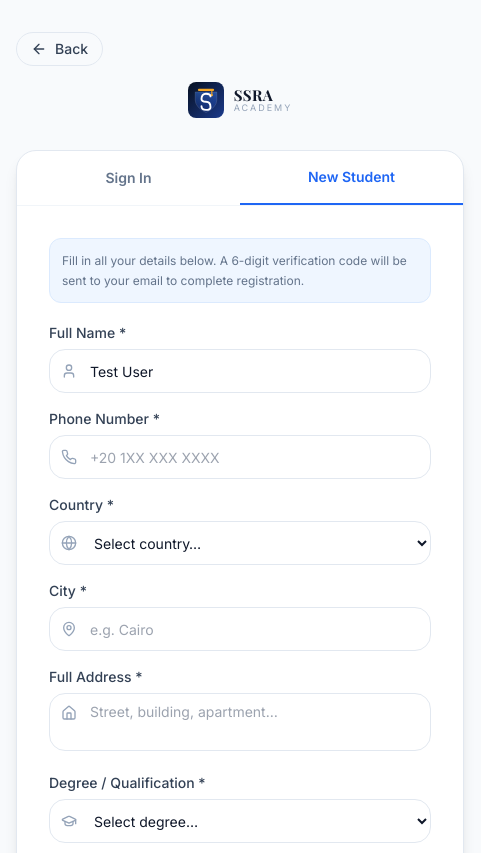
StudentLogin — OTP verify hardening › signup: stores profile + reads back successfully → no sign-out
Earlier steps of the test are not shown.
Later steps or results of the test are not shown.
In the field with placeholder "+20 1XX XXX XXXX": {"x": 240, "y": 457} 49,435 -> 431,479, type "+201234567890"
Select "Egypt" in the dropdown labelled "Country *": {"x": 240, "y": 543} 49,521 -> 431,565
In the field with placeholder "e.g. Cairo": {"x": 240, "y": 629} 49,607 -> 431,651, type "Cairo"
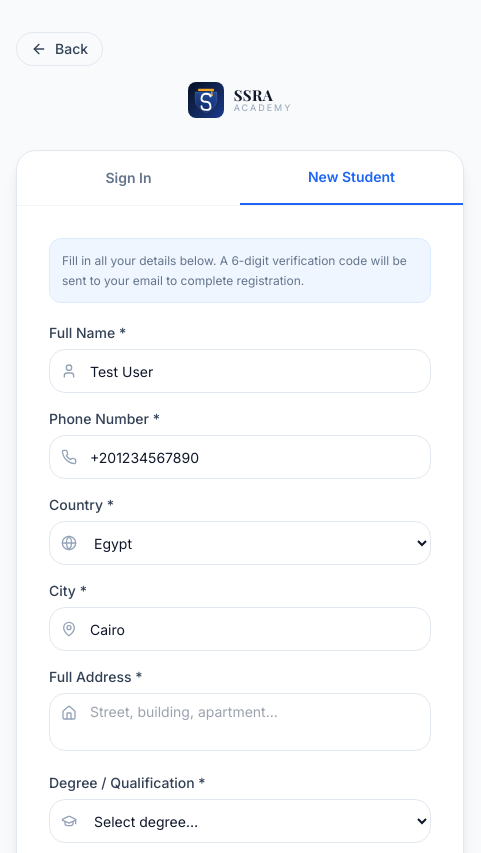
In the text box with placeholder "Street, building, apartment…": {"x": 240, "y": 722} 49,693 -> 431,751, type "123 Test Street"
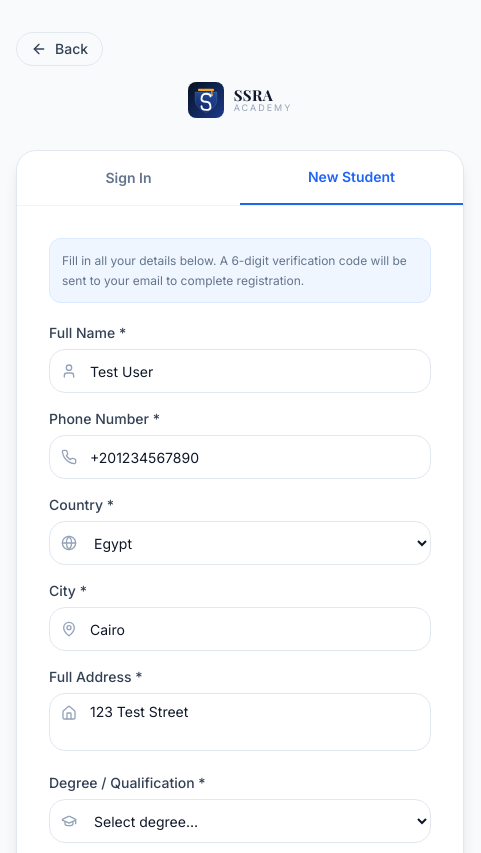
Select "Bachelor of Physical Therapy" in the dropdown labelled "Degree / Qualification *": {"x": 240, "y": 821} 49,799 -> 431,843
(page scrolled)
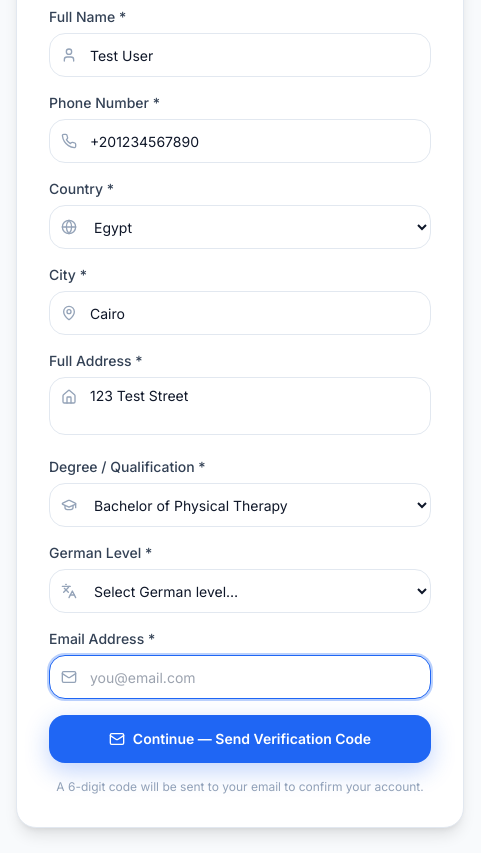
Select "A1" in the dropdown labelled "German Level *": {"x": 240, "y": 591} 49,569 -> 431,613
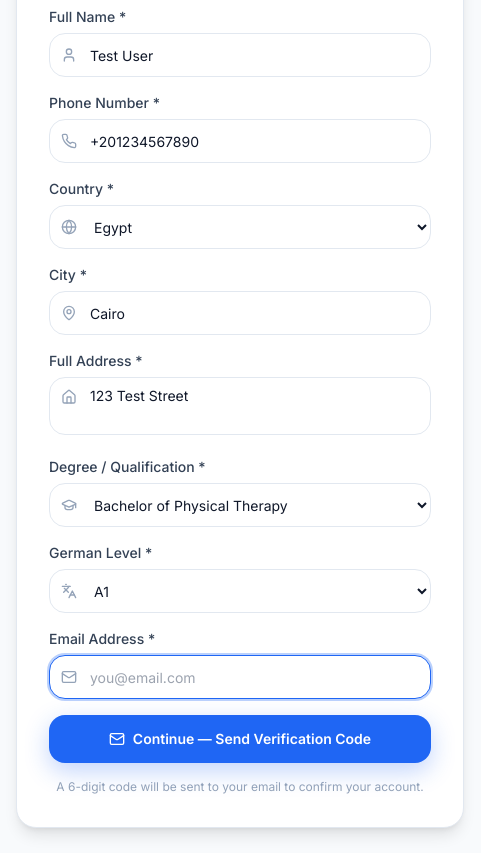
In the field with placeholder "you@email.com": {"x": 240, "y": 677} 49,655 -> 431,699, type "u@test.com"
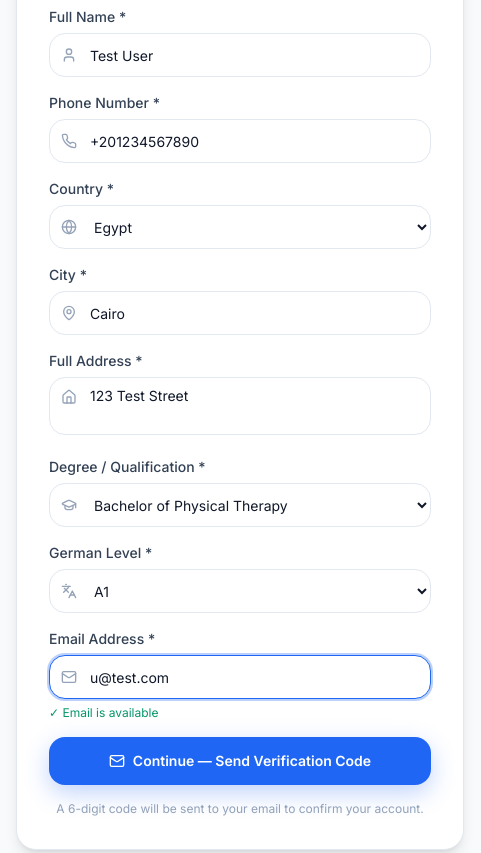
Expected: the button "Continue — Send Verification Code" is enabled
Click the button "Continue — Send Verification Code": {"x": 240, "y": 761} 49,737 -> 431,785
(page scrolled)
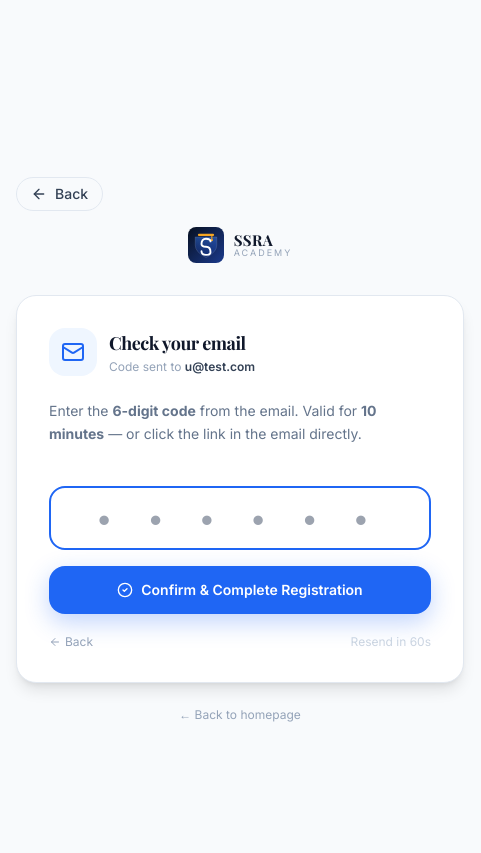
Expected: the field with placeholder "• • • • • •" is shown, 49,486 -> 431,550
